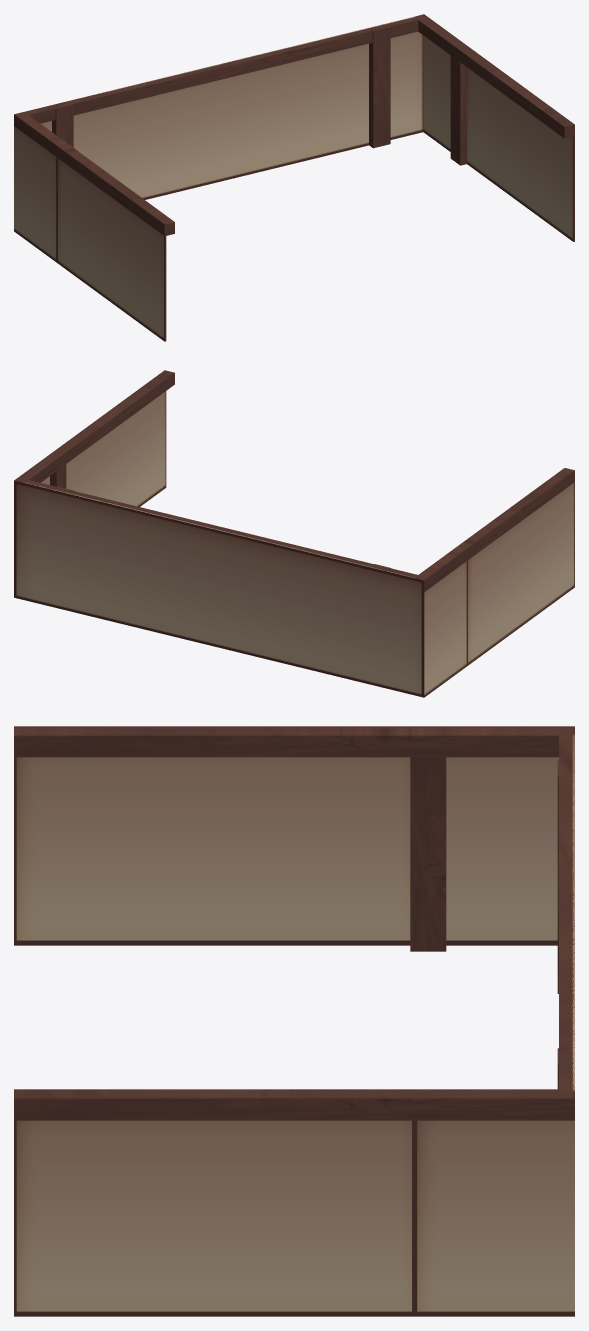
File: wall3.FBX
The picture shows the model from 3 angles, top to bottom: view 1: azimuth 30°, elevation 25°; view 2: azimuth 150°, elevation 25°; view 3: azimuth 270°, elevation 25°; orthographic projection. The views are drawn at different scales.
Visible parts, largest first — view 1: C-Ext009, C-Ext010, Box056, Box057, Box019; view 2: C-Ext009, C-Ext010; view 3: C-Ext009, C-Ext010, Box058.
Boxes of the visible parts, x1,y1,x2,y2 form: C-Ext009: (14, 14, 574, 341); C-Ext010: (14, 14, 574, 236); Box056: (369, 27, 390, 148); Box057: (450, 55, 466, 165); Box019: (52, 104, 73, 147); C-Ext009: (14, 370, 574, 697); C-Ext010: (14, 370, 574, 591); C-Ext009: (14, 726, 574, 1316); C-Ext010: (14, 726, 574, 1120); Box058: (410, 757, 446, 951).
Bounding box in the file's own units: 1110 × 303 × 707.
2 materials, 2 textured.
